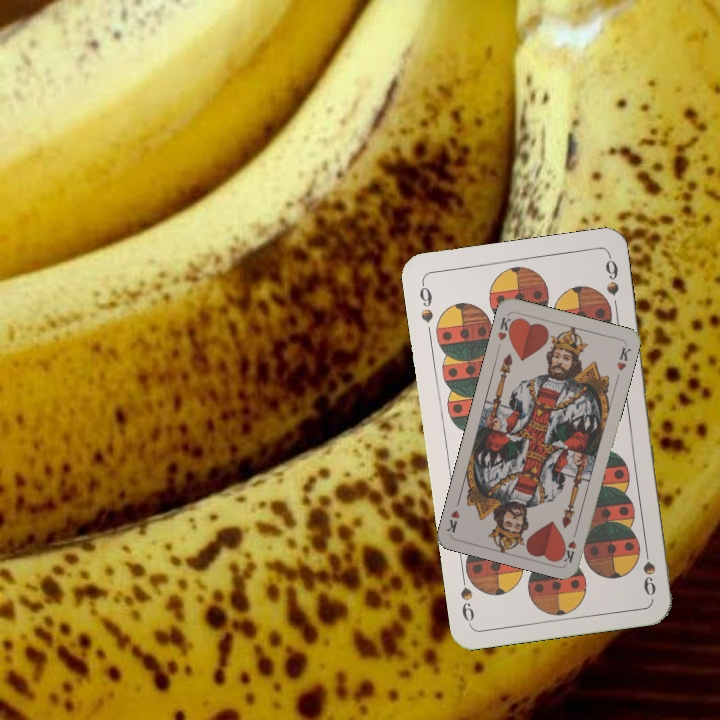HK: (559, 524, 580, 565), (494, 313, 517, 343)
S9: (639, 540, 658, 599), (415, 278, 436, 326)
